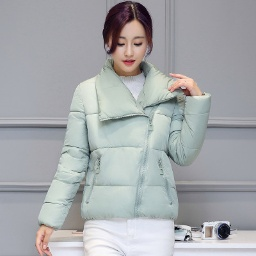face: (99, 1, 158, 74)
